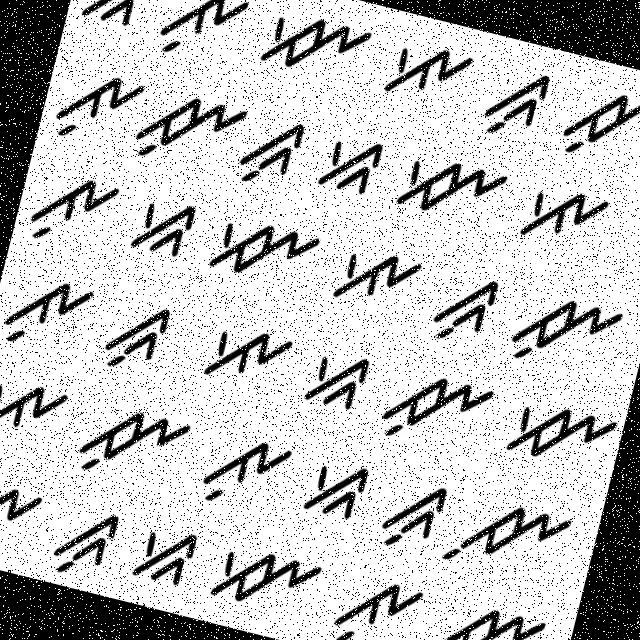e: (376, 23, 484, 122), (507, 165, 615, 258), (190, 311, 296, 401), (325, 235, 425, 322), (0, 366, 75, 455), (0, 471, 48, 557)
ngge: (307, 122, 391, 210), (119, 189, 205, 271), (292, 337, 376, 420), (293, 451, 372, 539), (124, 521, 201, 597), (68, 0, 154, 48)
nggu: (414, 260, 504, 356), (366, 462, 452, 560), (470, 54, 556, 152), (42, 497, 125, 590), (234, 107, 312, 197), (96, 293, 176, 380)
nje: (248, 0, 379, 100), (388, 134, 514, 234), (202, 528, 328, 628), (200, 198, 326, 295), (498, 390, 622, 483)
nju: (59, 386, 194, 503), (438, 482, 578, 592), (500, 276, 630, 386), (376, 357, 502, 463), (128, 80, 251, 188), (553, 66, 639, 185), (420, 583, 554, 639)
u: (40, 58, 146, 161), (21, 155, 126, 258), (0, 259, 100, 363), (192, 422, 296, 520), (320, 563, 427, 639), (150, 0, 253, 78)
